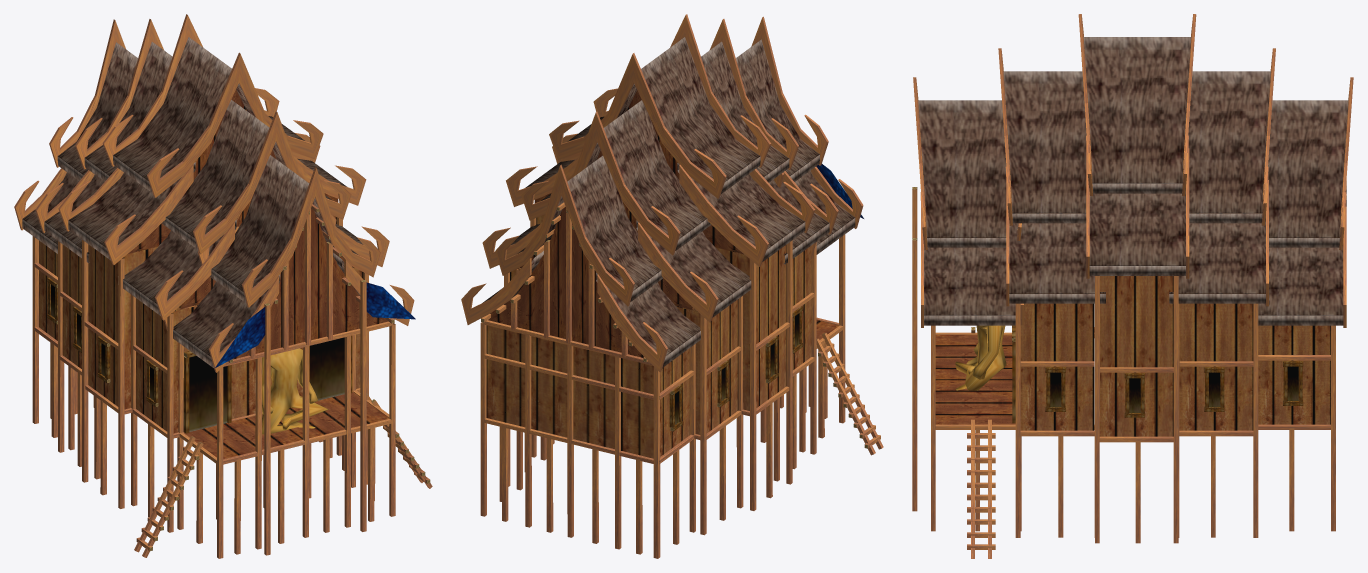
The model's file is temple.dae.
3 views of the same model, side by side, from view 1: azimuth 30°, elevation 25°; view 2: azimuth 150°, elevation 25°; view 3: azimuth 270°, elevation 25° (orthographic). The views are drawn at different scales.
Parts seen in each view (by area): view 1: temple; view 2: temple; view 3: temple.
Part boxes in pixels (x1,y1,x2,y2): temple: (14, 14, 432, 558); temple: (461, 14, 883, 558); temple: (912, 14, 1353, 558).
Size of the model in its own units: 16.07 by 19.57 by 23.06.
